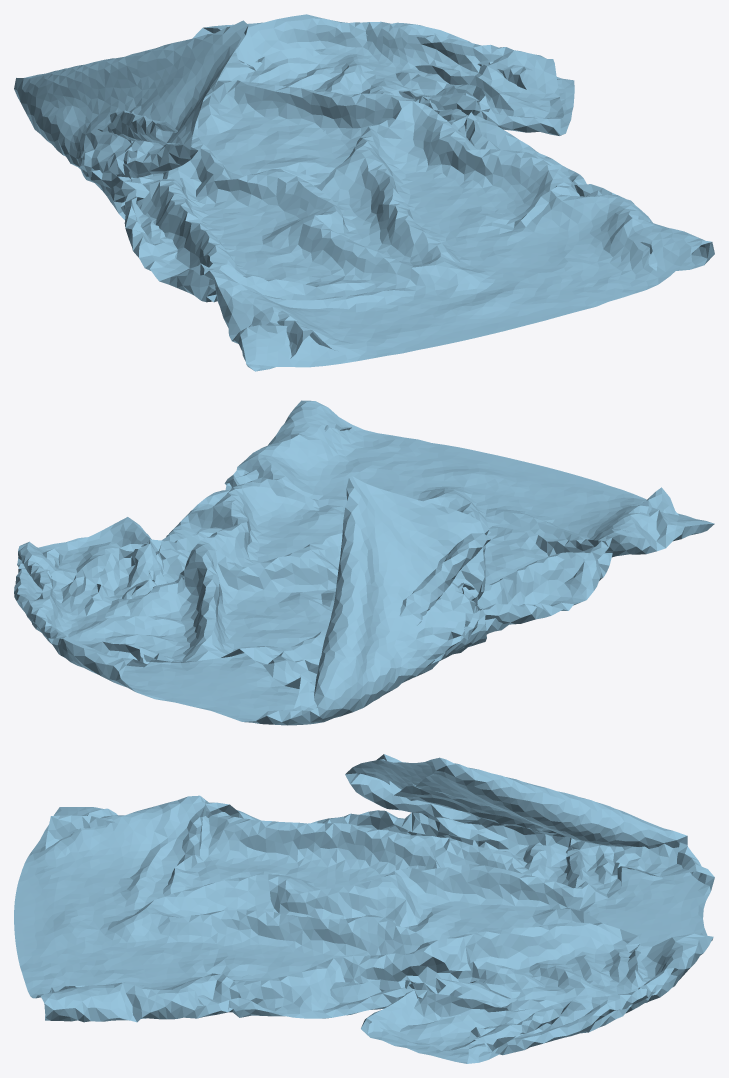
Rendered from frame_16.glb.
3 views of the same model, one above another, from view 1: azimuth 30°, elevation 25°; view 2: azimuth 150°, elevation 25°; view 3: azimuth 270°, elevation 25° (orthographic). The views are drawn at different scales.
Parts seen in each view (by area): view 1: frame_16.obj; view 2: frame_16.obj; view 3: frame_16.obj.
Boxes of the visible parts, x1,y1,x2,y2 form: frame_16.obj: (14, 14, 714, 371); frame_16.obj: (14, 400, 714, 725); frame_16.obj: (14, 754, 714, 1063).
Size of the model in its own units: 1.47 by 0.4183 by 1.73.
